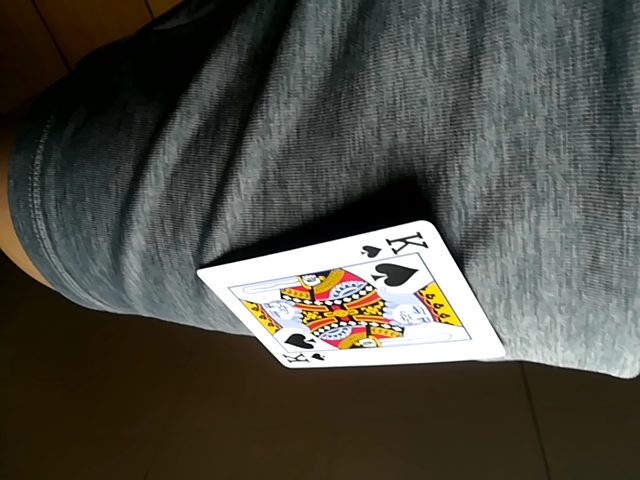ht k: (195, 219, 504, 370)
